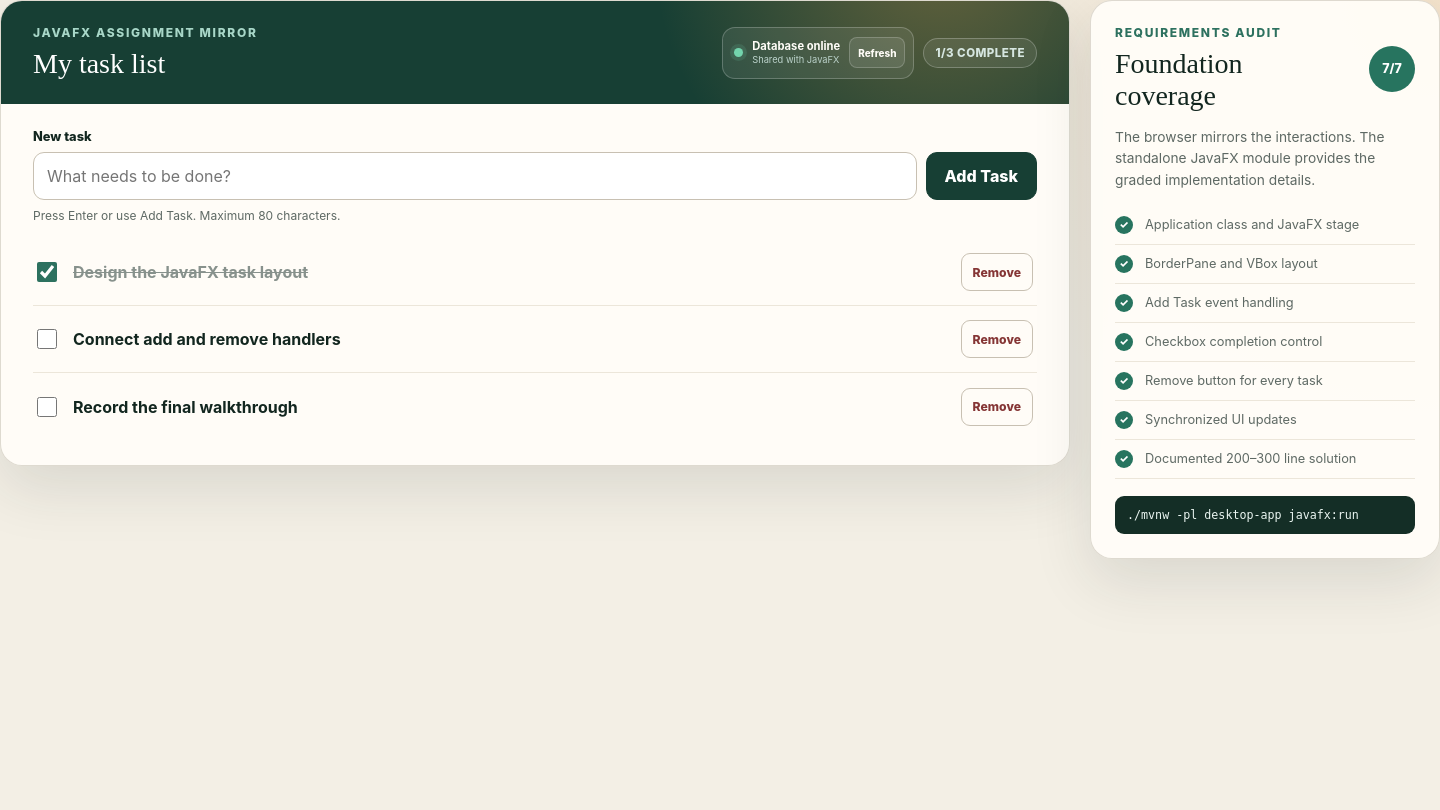
Scenario: FoundationTaskLab › adds tasks through the required input and button
Expected: the text "Connect add and remove handlers" is shown, [73, 329, 341, 349]
In the field labelled "New task": (475, 176) [33, 152, 917, 200], type "Record the screen demo"
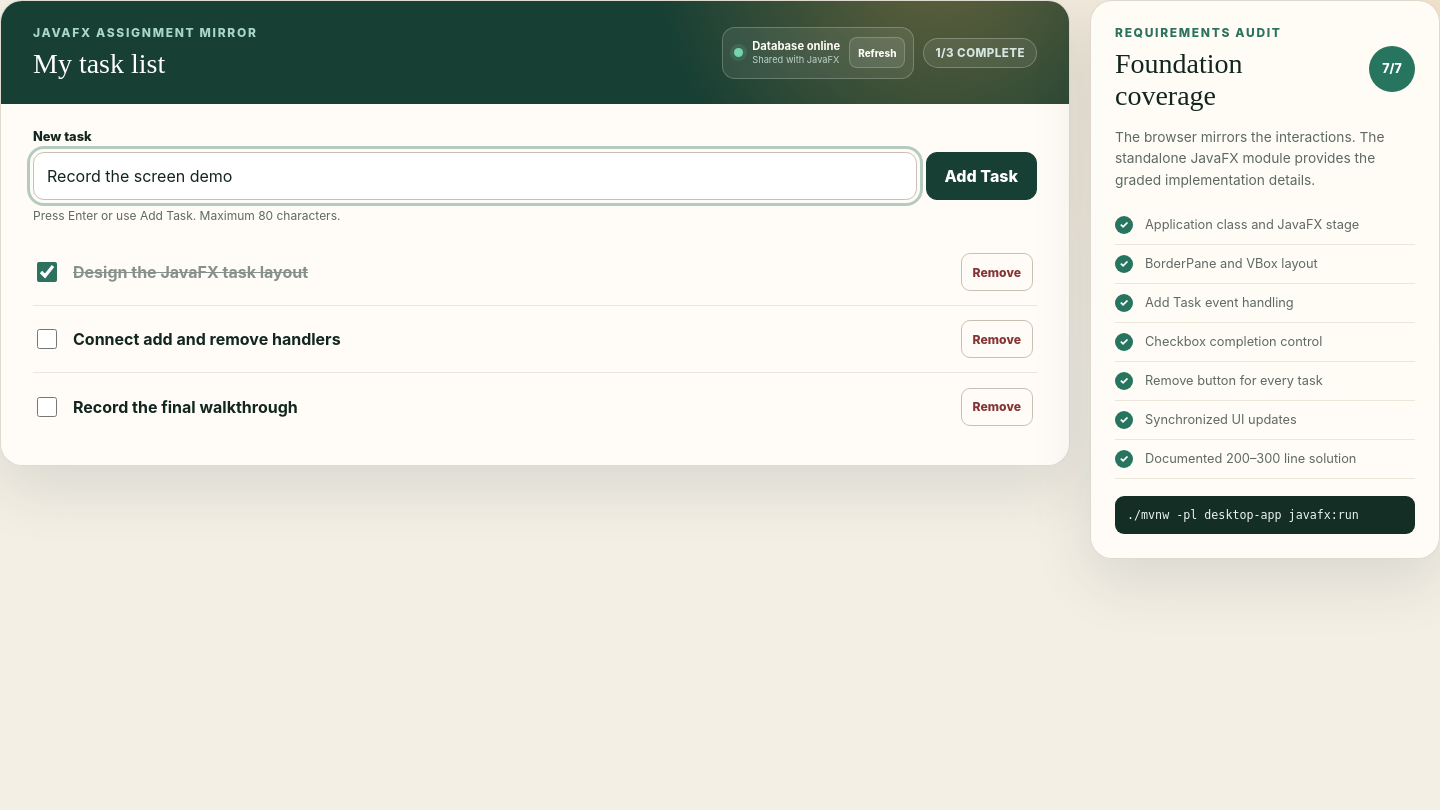
Click the button "Add Task": (981, 176) [926, 152, 1037, 200]
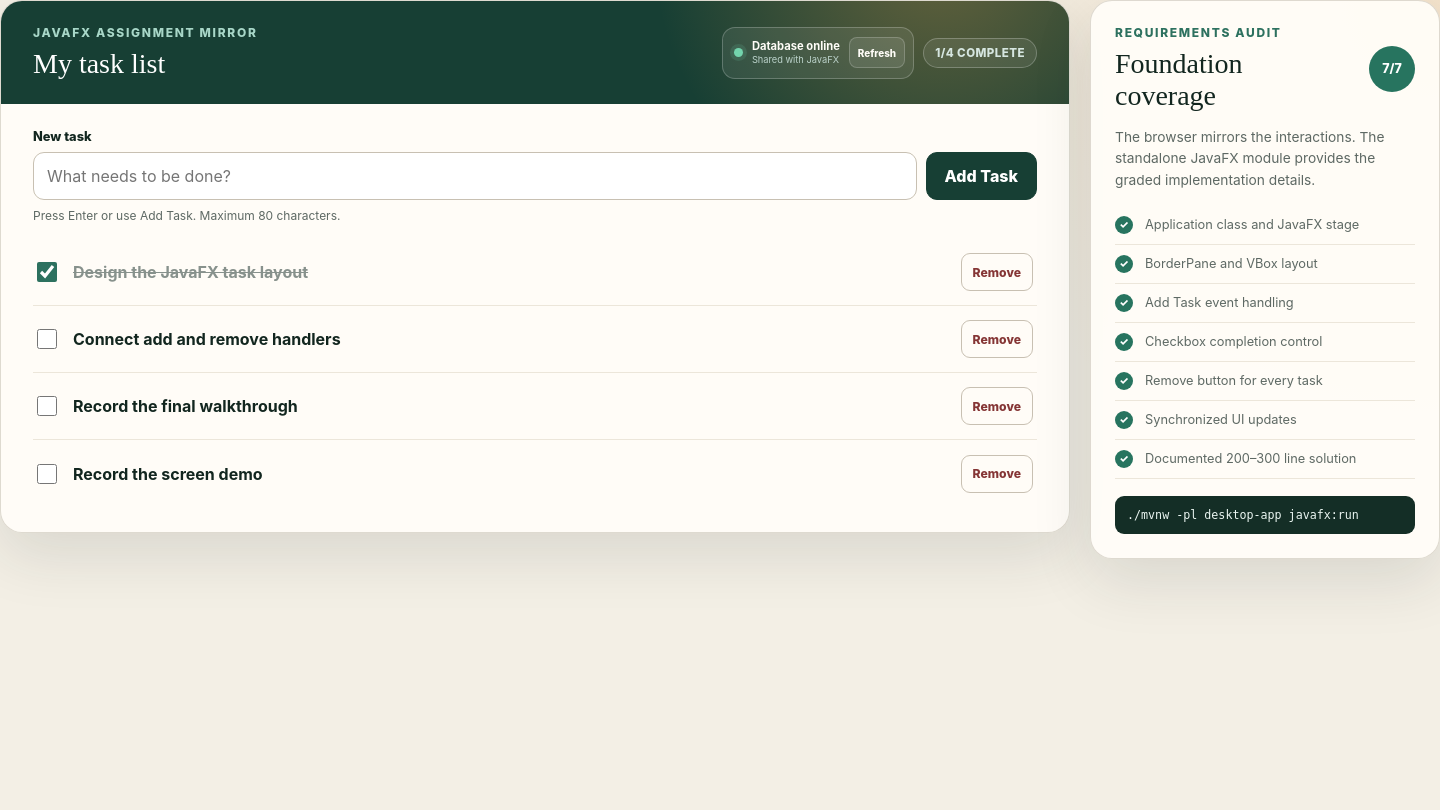
Expected: the text "Record the screen demo" is shown, [73, 464, 263, 484]
